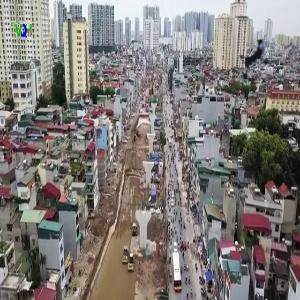drone: (219, 22, 297, 100)
